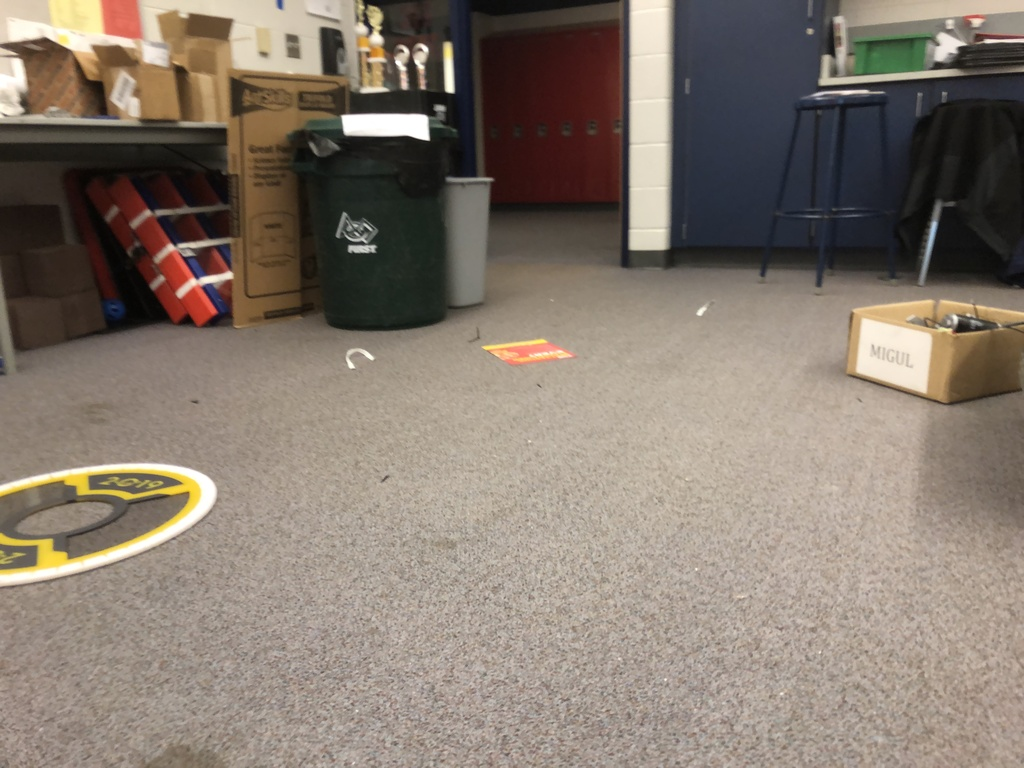hatch_panel: (1, 450, 248, 607)
